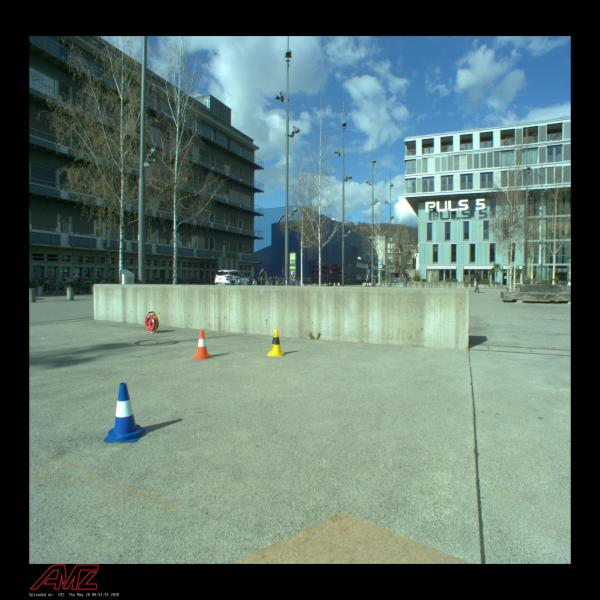blue_cone: (104, 382, 146, 442)
orange_cone: (193, 330, 213, 360)
yellow_cone: (266, 328, 286, 356)
